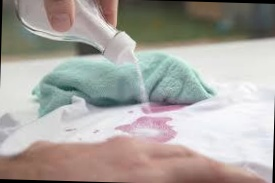wine: (147, 92, 182, 113), (138, 112, 172, 127), (161, 131, 173, 142), (116, 122, 128, 133)
